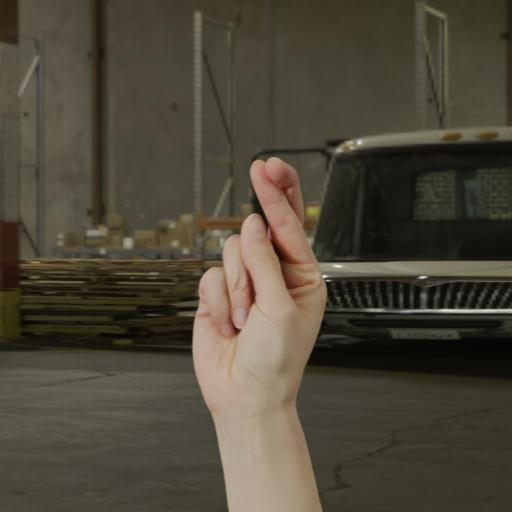R: (126, 120, 422, 472)
